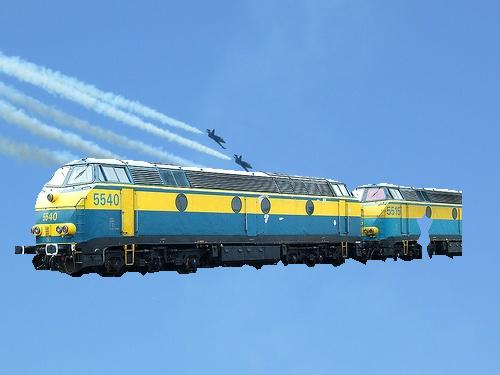tampered: (16, 159, 462, 277)
